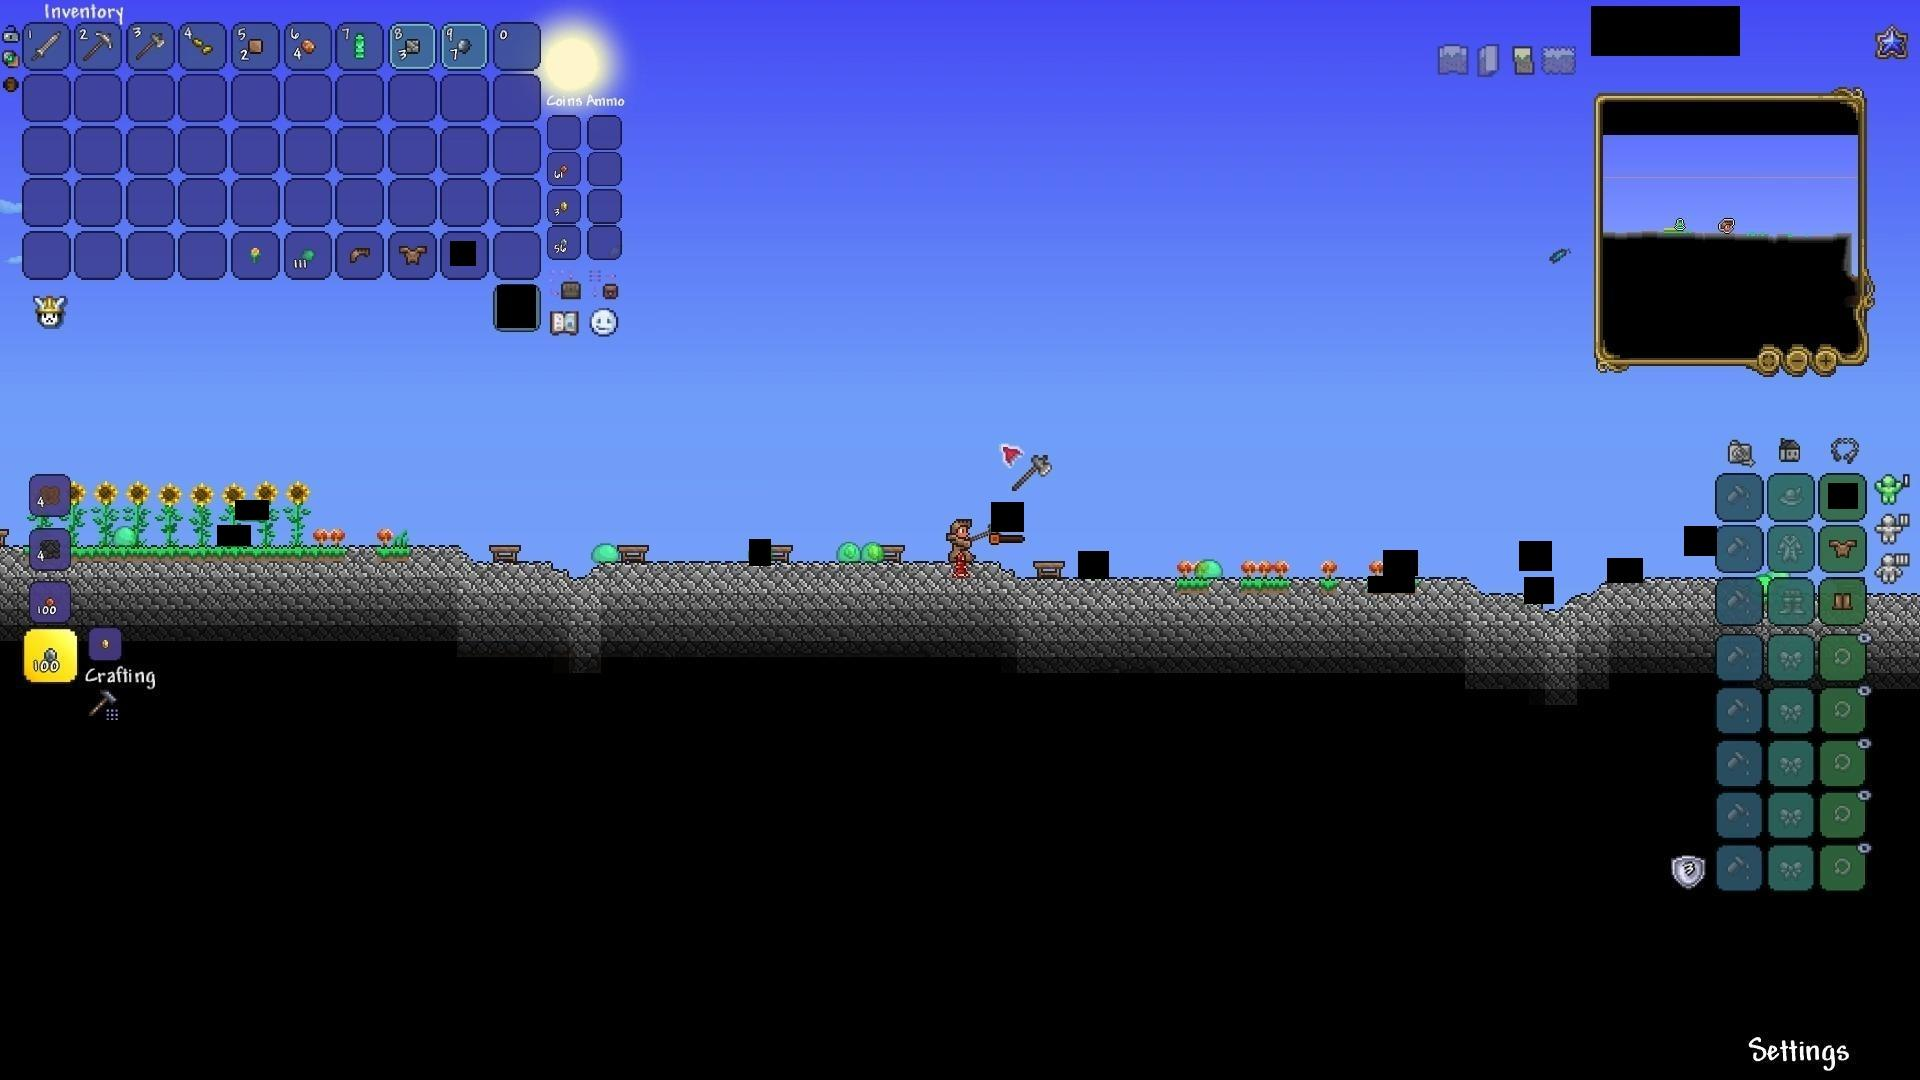breastplate: (398, 241, 427, 262), (1830, 537, 1859, 558)
dirt: (70, 546, 344, 560), (1241, 572, 1287, 592), (1176, 576, 1209, 595), (377, 546, 410, 560)
helmet: (345, 243, 375, 268)
legs: (1832, 587, 1857, 615)
slime: (109, 522, 141, 546), (589, 539, 617, 564), (1192, 558, 1225, 578), (836, 543, 862, 563), (862, 542, 885, 562)
workbench: (617, 542, 650, 567), (489, 543, 522, 567), (1031, 558, 1064, 582), (770, 542, 795, 566), (884, 542, 906, 564)
